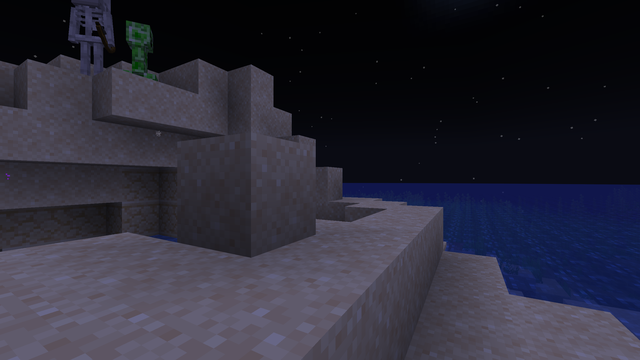creepers: (121, 15, 157, 78)
squelettes: (69, 0, 113, 77)
